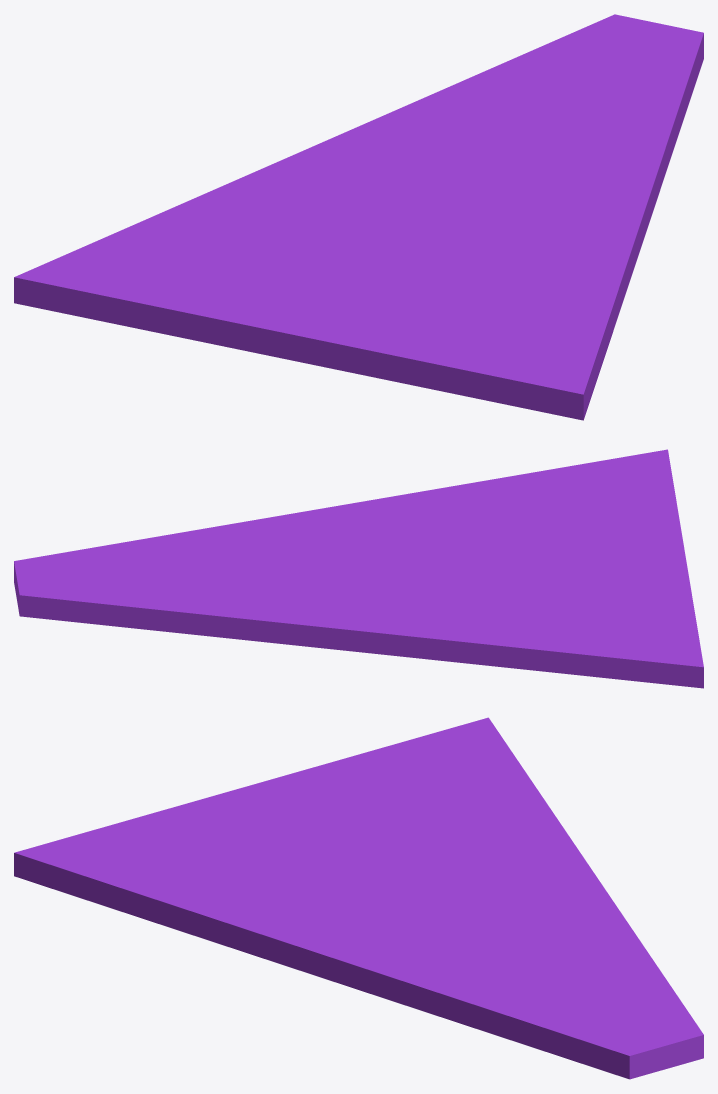
Rendered from StairsStep_11.fbx.
3 views of the same model, one above another, from view 1: azimuth 30°, elevation 25°; view 2: azimuth 150°, elevation 25°; view 3: azimuth 270°, elevation 25° (orthographic). The views are drawn at different scales.
Visible parts, largest first — view 1: StairsStep_11; view 2: StairsStep_11; view 3: StairsStep_11.
Boxes of the visible parts, <box> form: StairsStep_11: <box>14,14,703,420</box>; StairsStep_11: <box>14,449,703,688</box>; StairsStep_11: <box>14,717,703,1079</box>.
Bounding box in the file's own units: 555 × 17.94 × 478.
